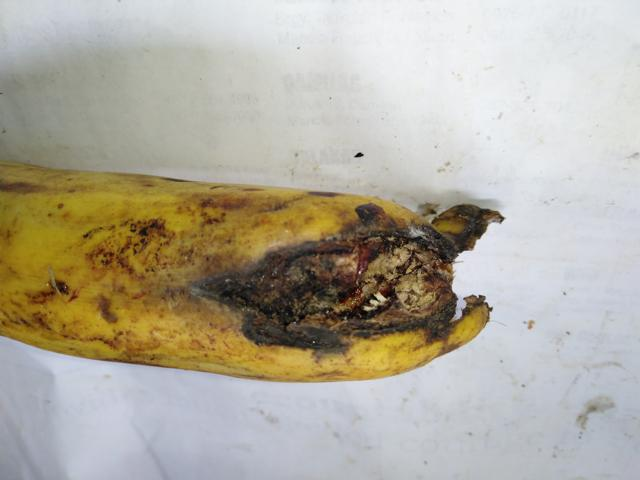ripe: (0, 147, 279, 375)
rotten: (186, 170, 496, 369)
